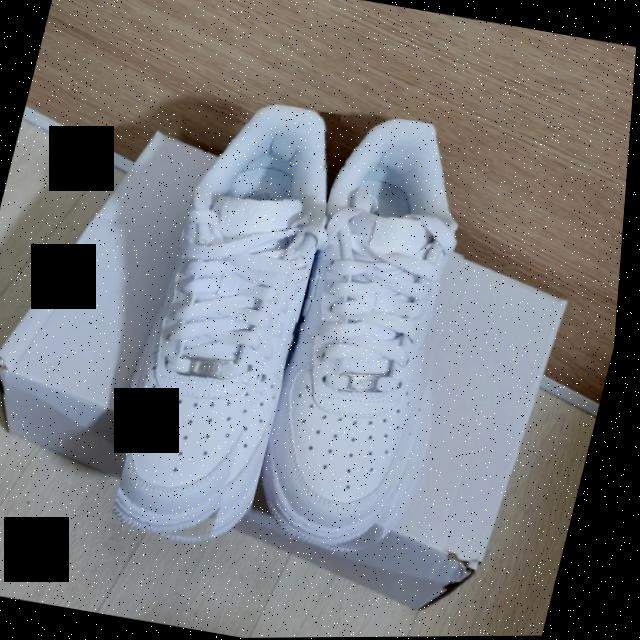shoe: (251, 110, 503, 561), (114, 92, 345, 553)
